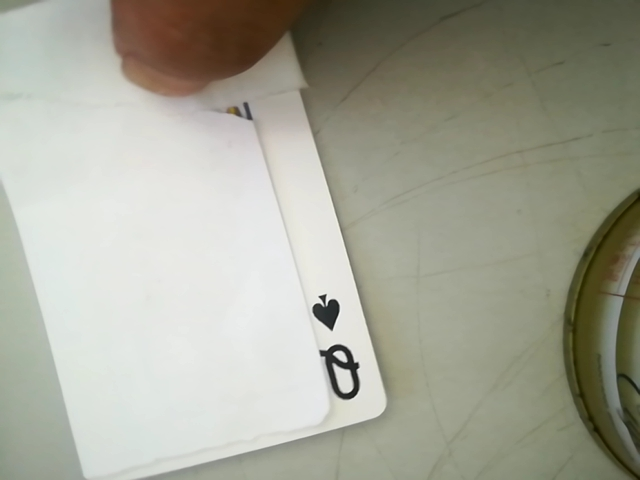ht q: (299, 278, 368, 420)
